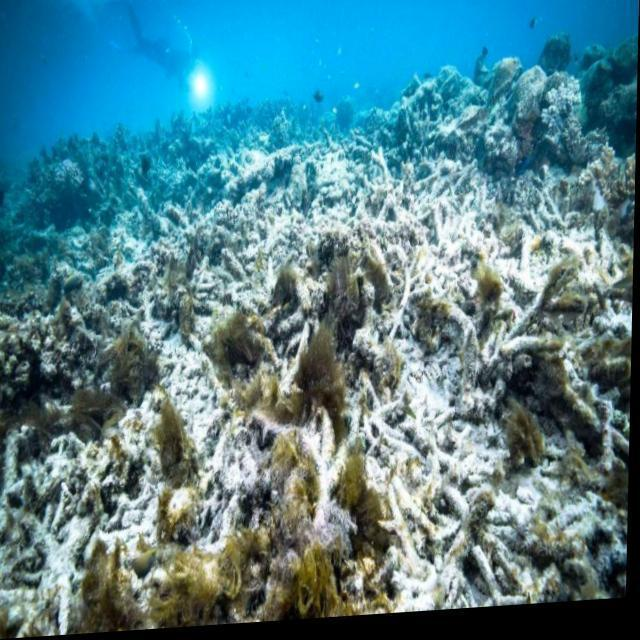Dead Coral: (41, 107, 596, 554)
